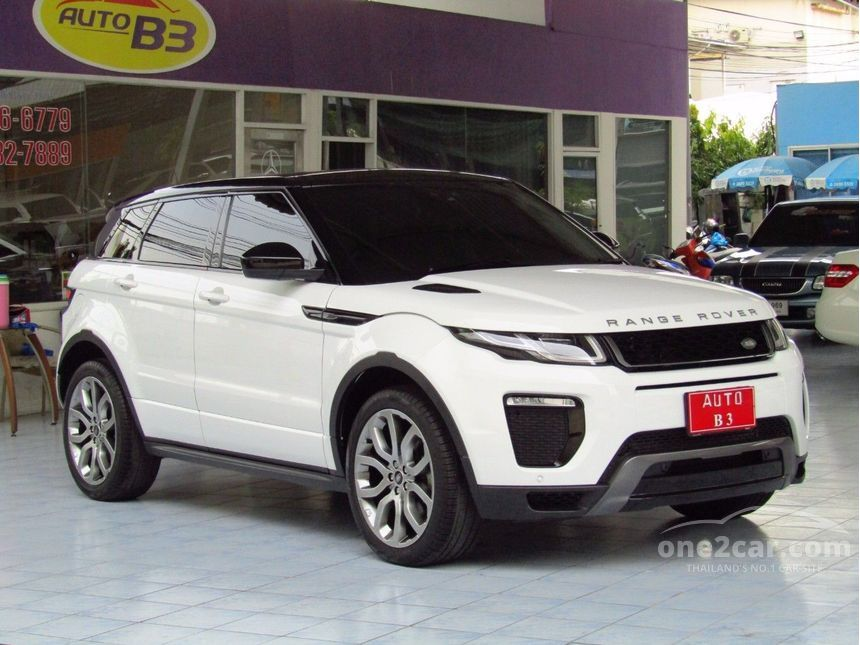pickup: (52, 164, 812, 571)
